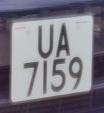1: (40, 58, 52, 98)
5: (49, 56, 69, 95)
7: (22, 58, 42, 101)
9: (67, 54, 86, 94)
A: (54, 20, 74, 58)
U: (37, 22, 55, 62)
